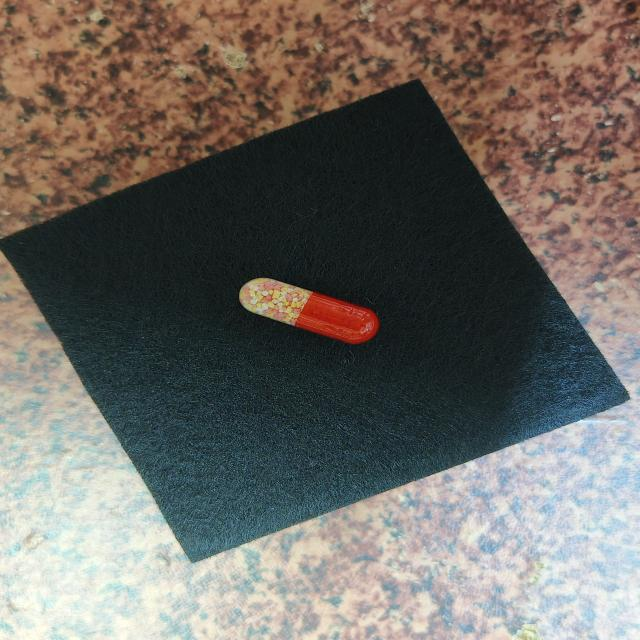Intact Capsule: (239, 278, 379, 344)
